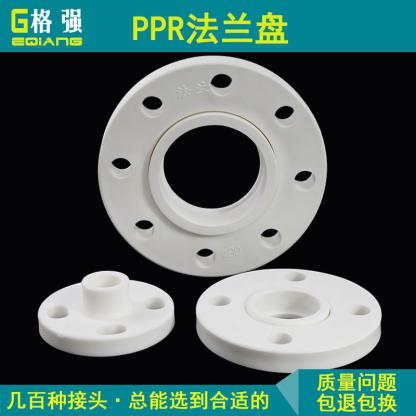FOD: (93, 54, 332, 278), (191, 266, 384, 374), (34, 266, 178, 359)
